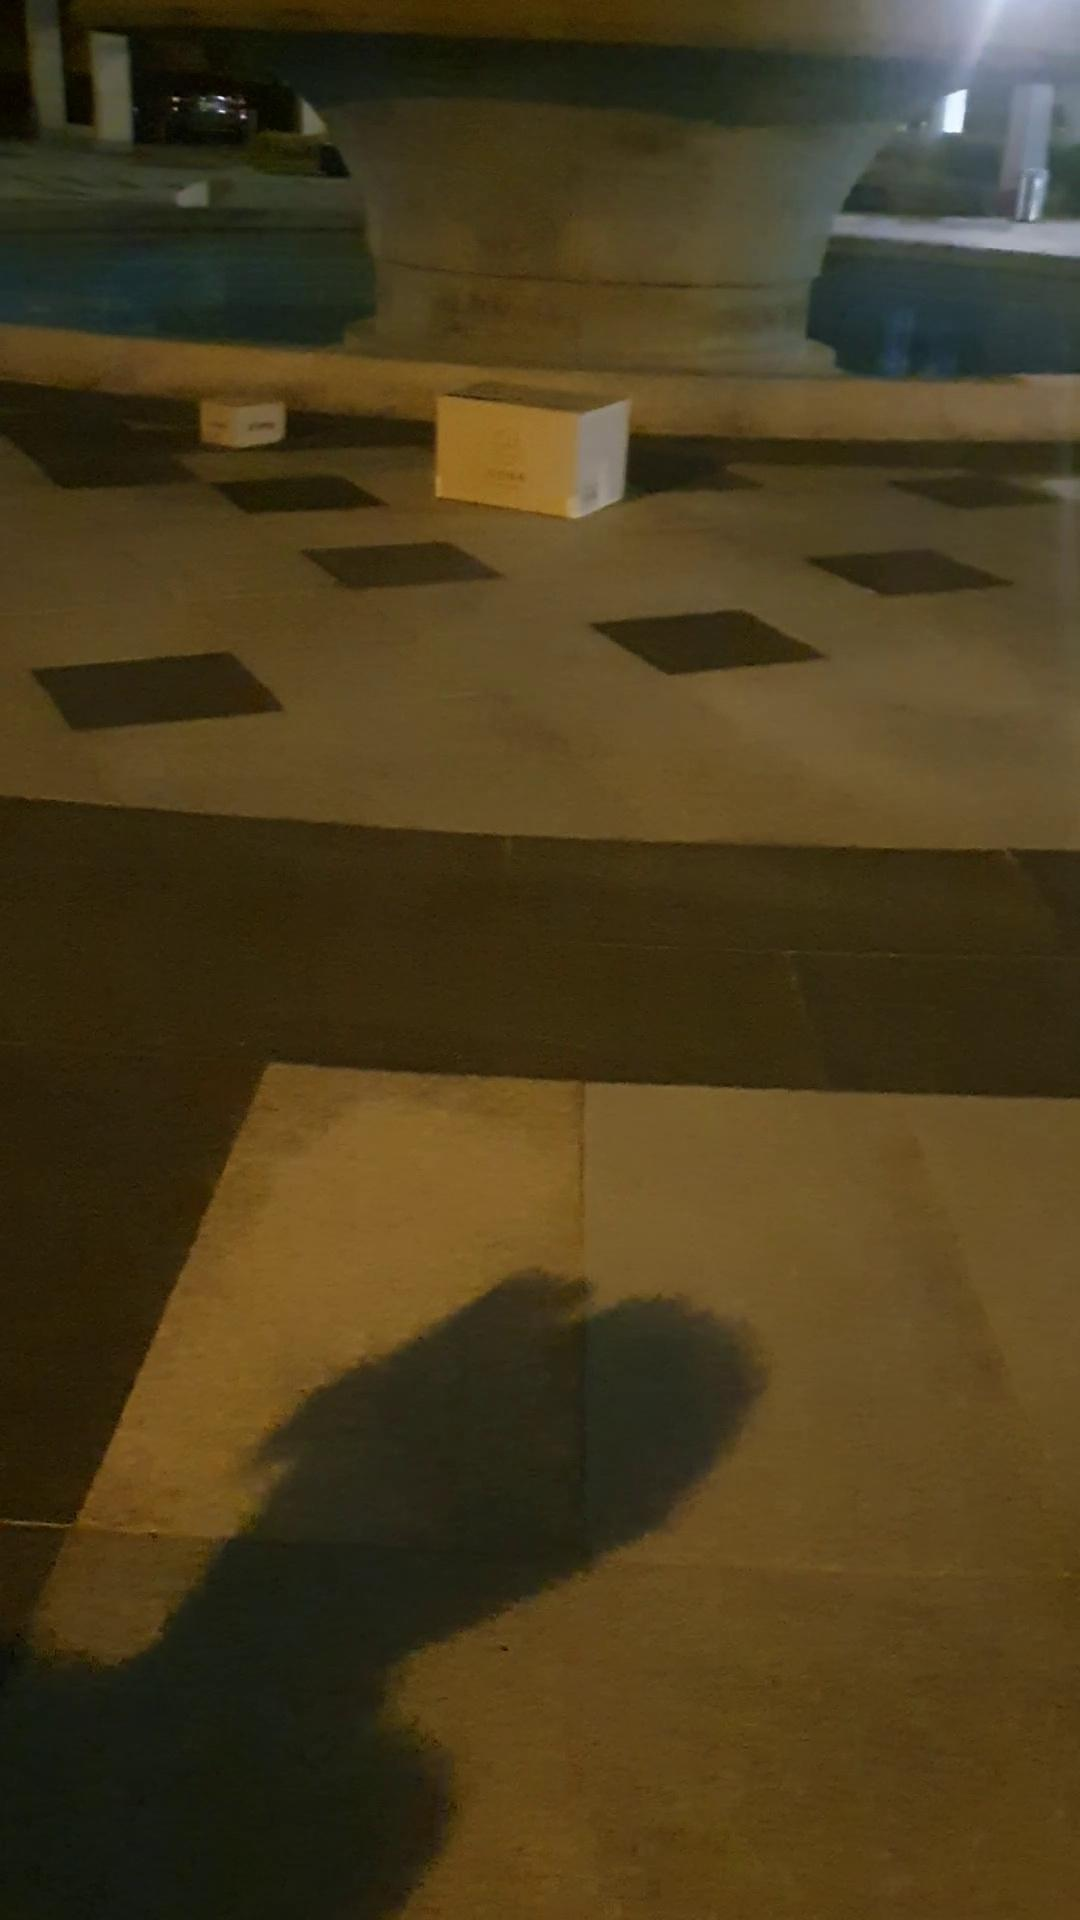Box: (433, 375, 630, 530), (193, 378, 295, 458)
